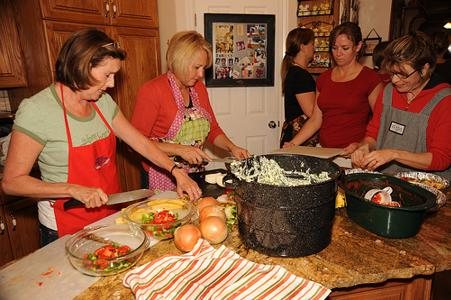person: (1, 30, 205, 251)
